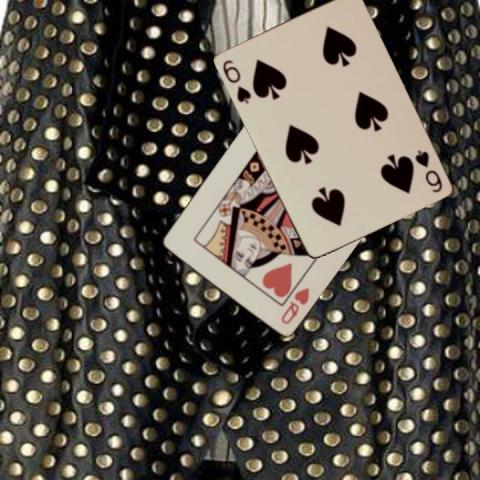6s: (218, 57, 252, 105), (412, 147, 444, 194)
Qh: (277, 284, 311, 326)
